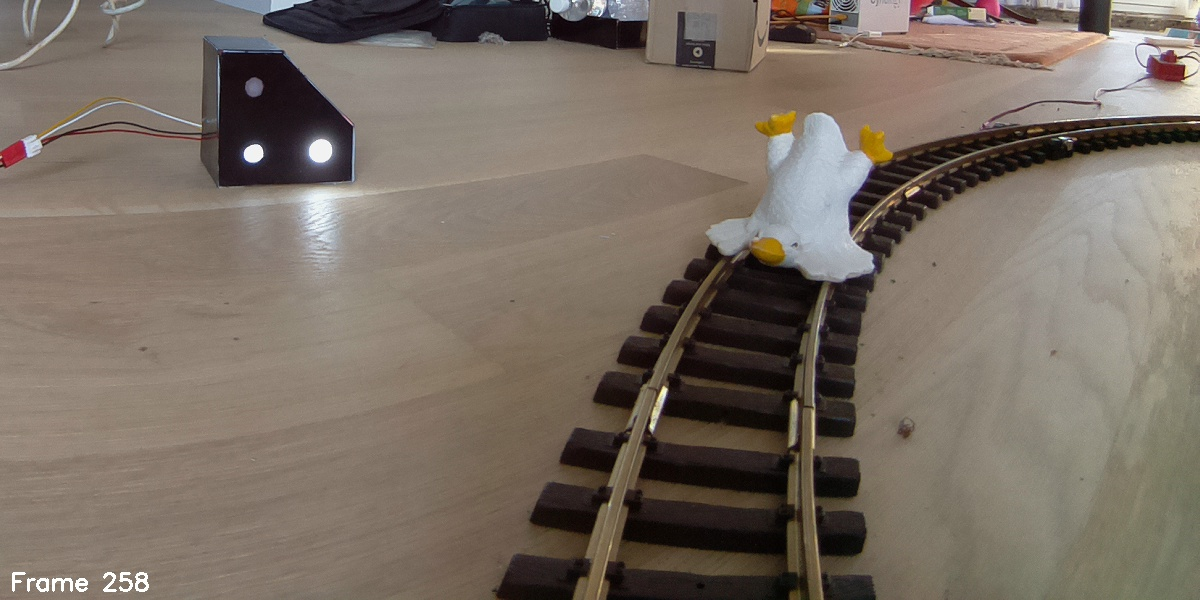Ente: (707, 107, 894, 284)
Halt: (200, 35, 353, 186)
